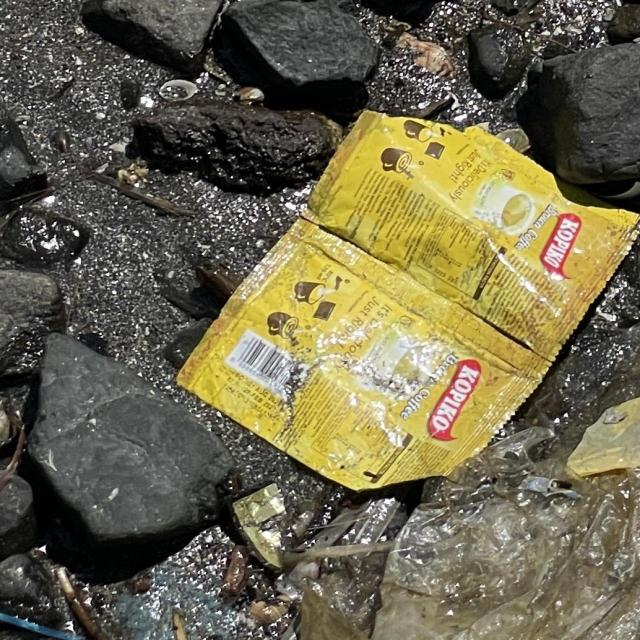plastic_waste: (179, 106, 640, 492)
